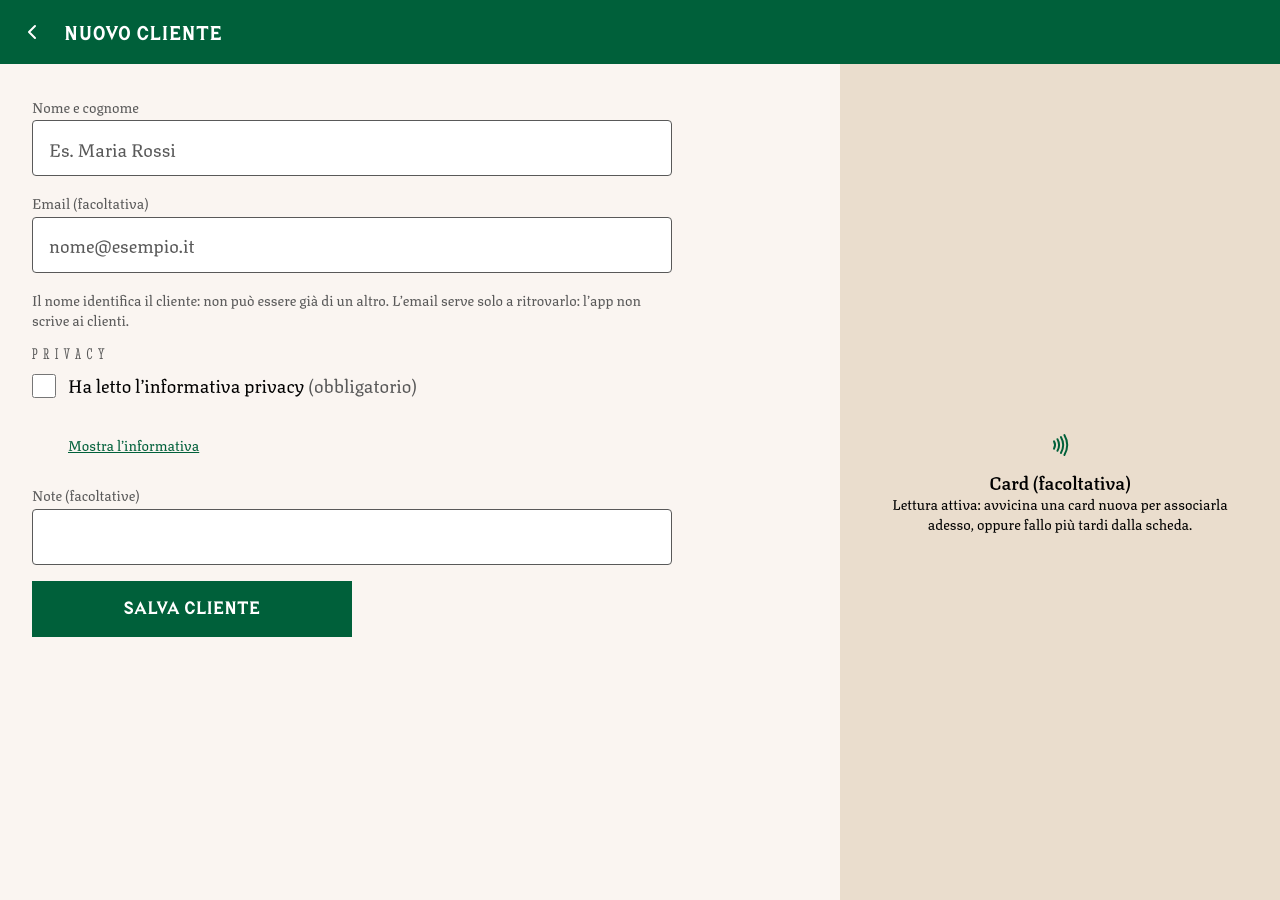
Test: Nuovo cliente: the link written after the save (SPEC-cards, points 2, 3 and 8) › read on the page: «Card associata a Giulia», the write on that card, then the customer page
Later steps or results of the test are not shown.
Expected: the text "Lettura attiva: avvicina una card nuova per associarla adesso, oppure fallo più tardi dalla scheda." is shown, x1=892 y1=492 x2=1228 y2=534
Type "Giulia Bianchi" into the field labelled "Nome e cognome". click: (352,148)
box: x1=32 y1=120 x2=672 y2=176
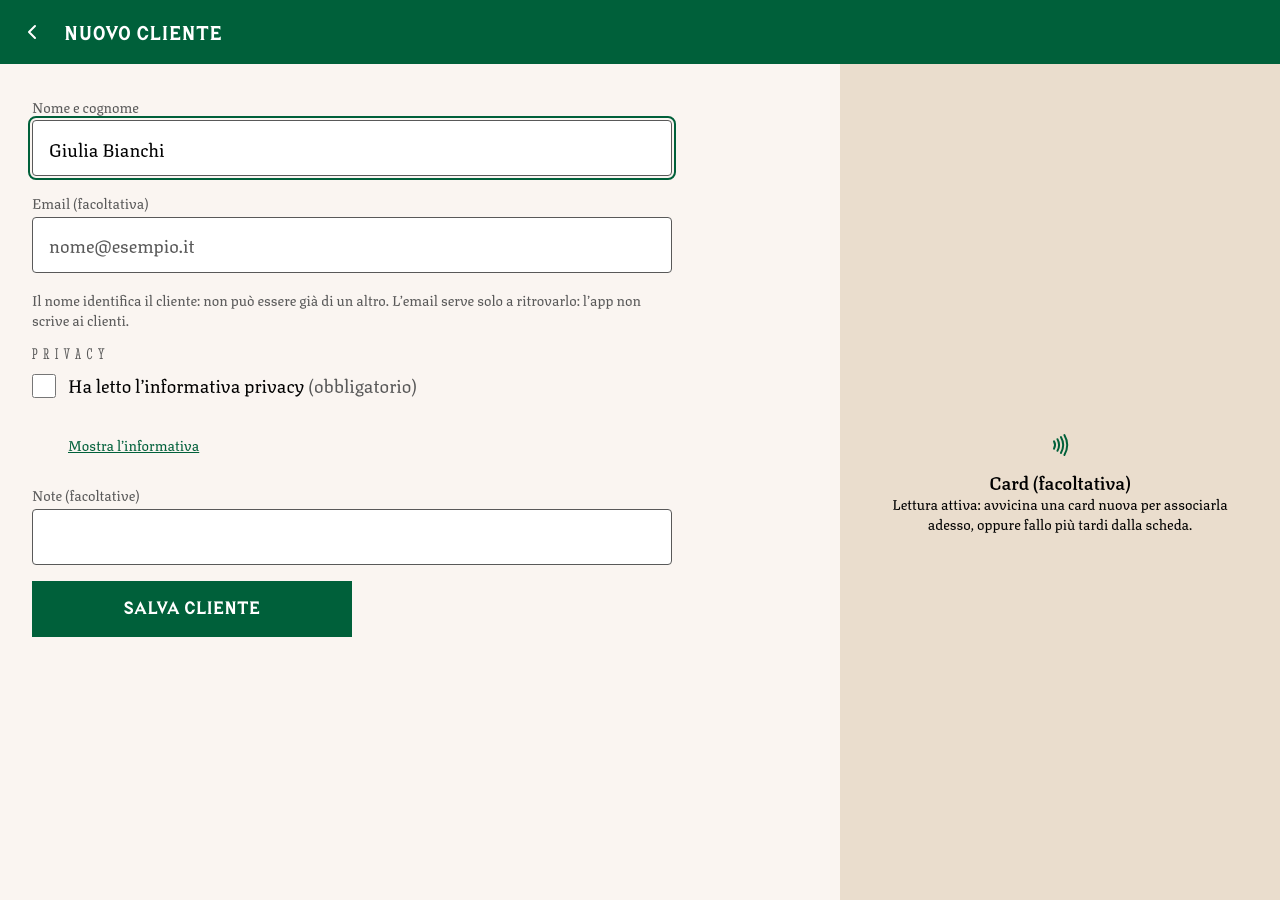
Type "giulia@example.com" into the field labelled "Email (facoltativa)". click: (352,245)
box: x1=32 y1=217 x2=672 y2=273
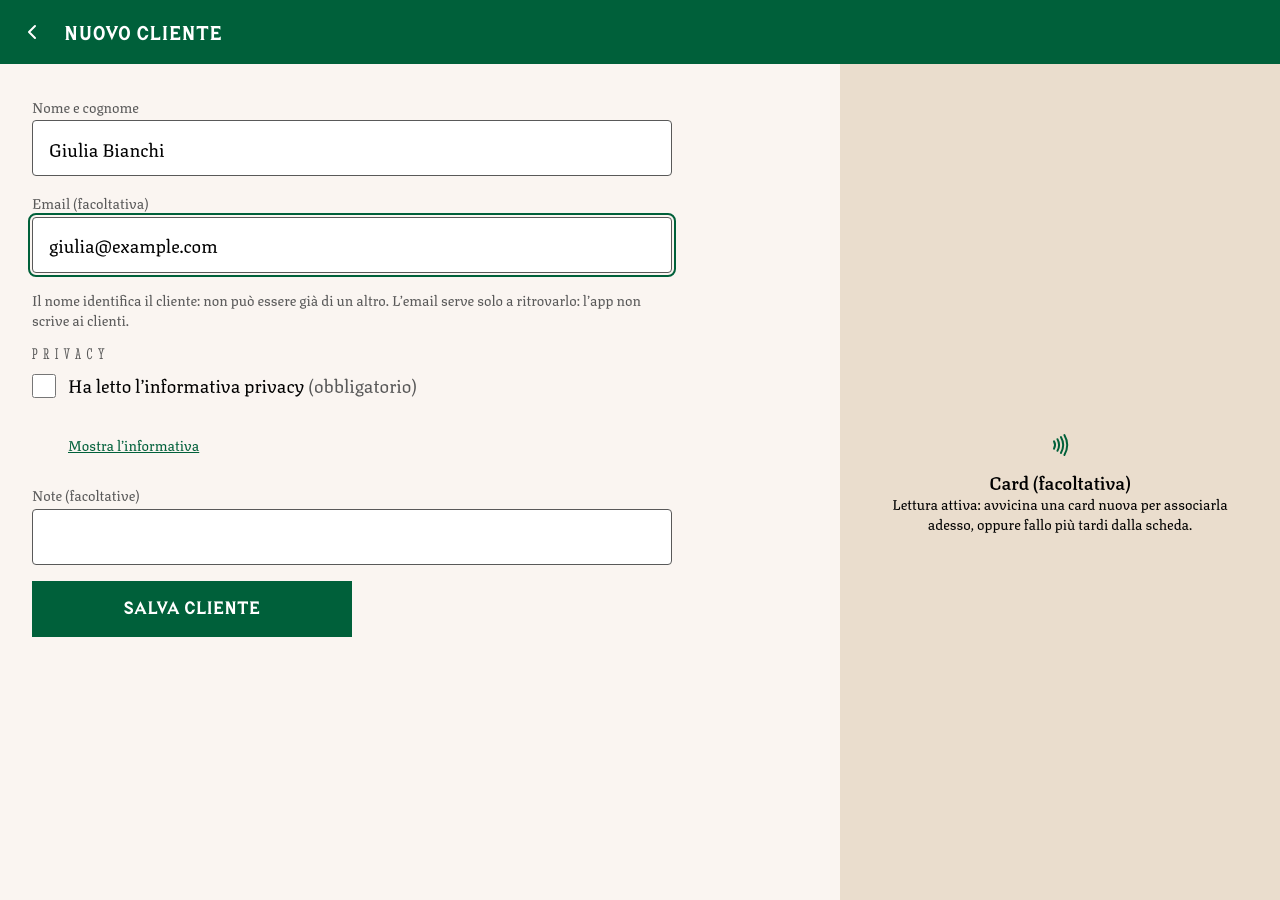
Click the checkbox labelled "Ha letto l’informativa privacy (obbligatorio)". click: (44,386)
box: x1=32 y1=374 x2=56 y2=398
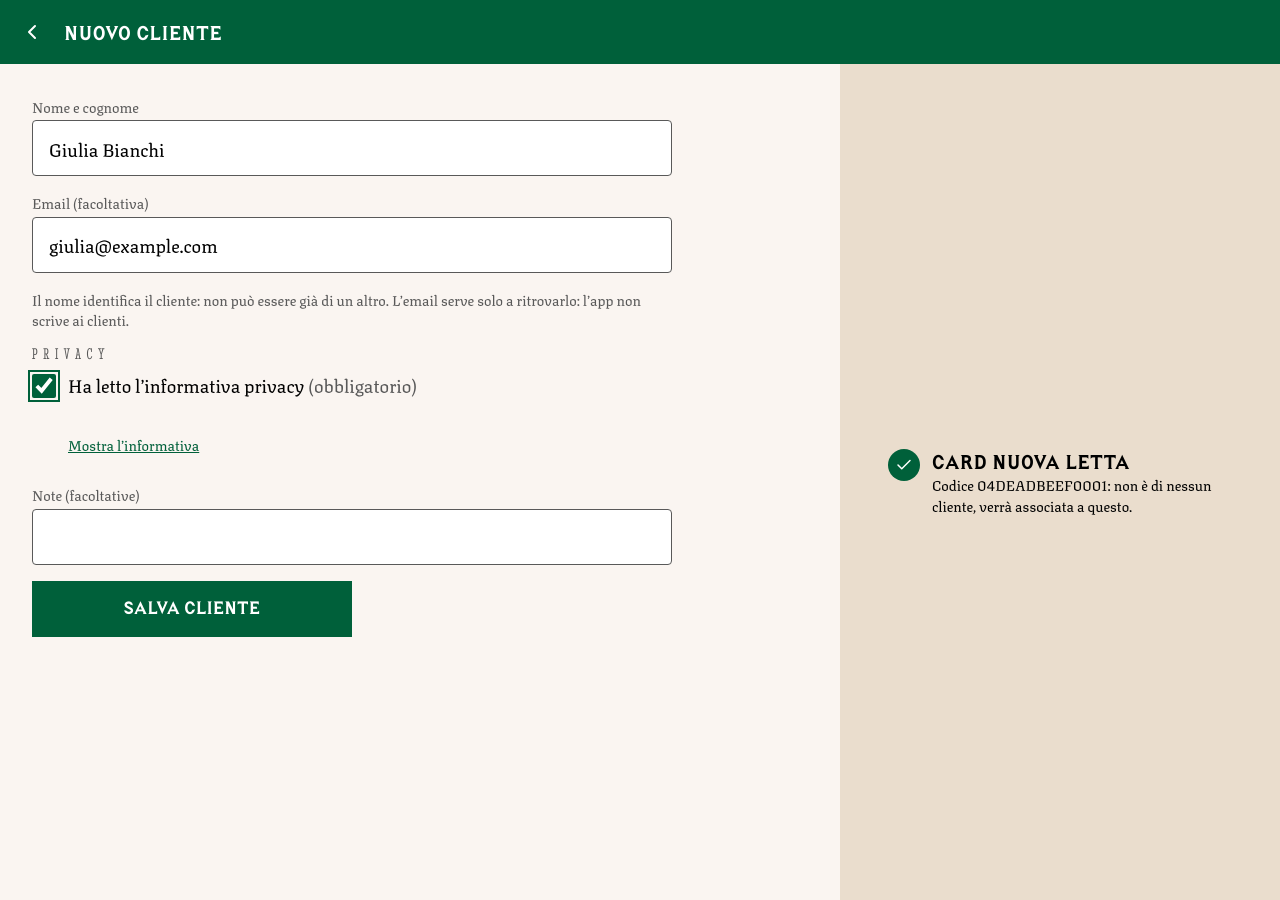
Expected: the element named "Card letta" is shown, x1=872 y1=433 x2=1248 y2=531
Click the button "Salva cliente". click: (192,609)
box: x1=32 y1=581 x2=352 y2=637
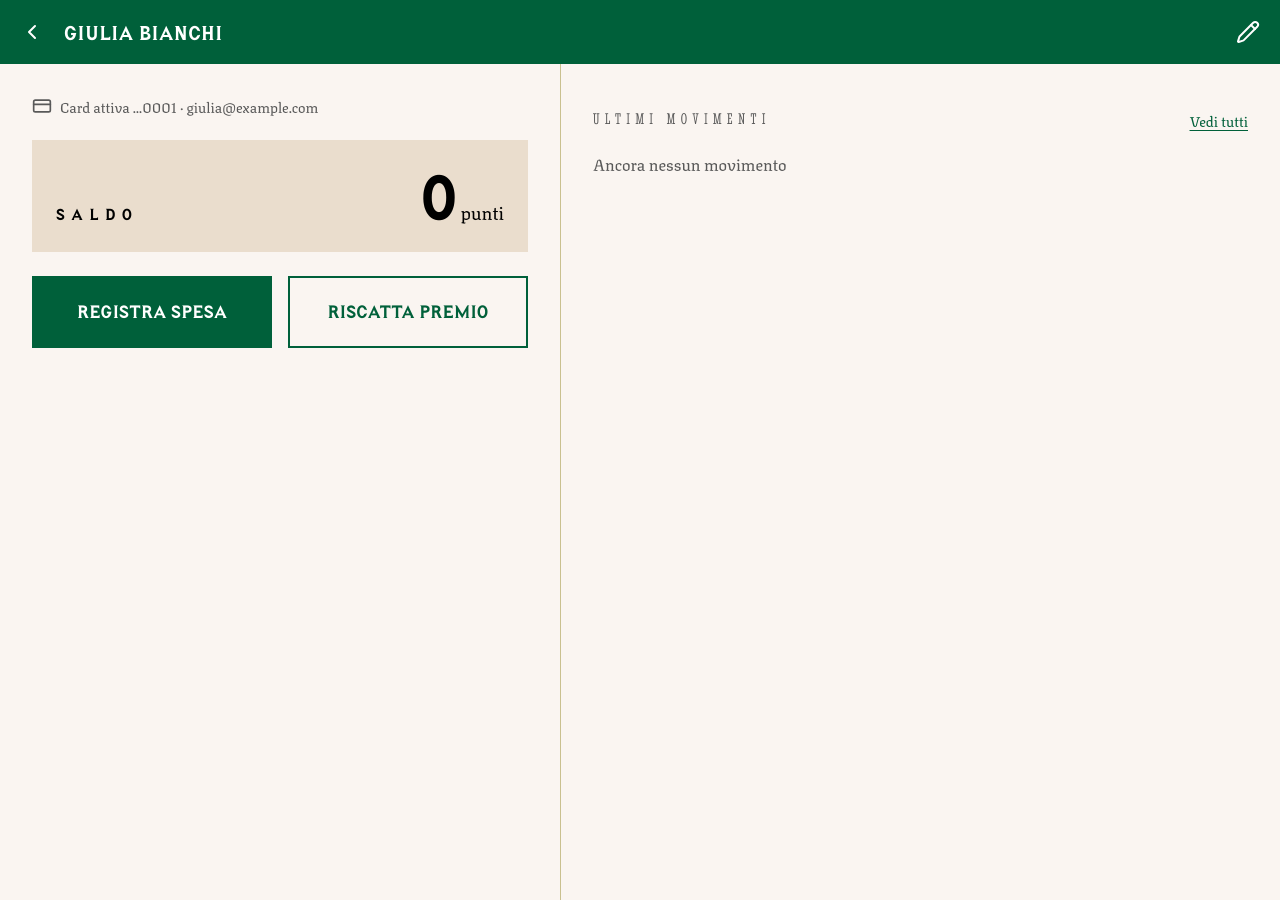
Expected: the label "Nome e cognome" is gone
Expected: the button "Salva cliente" is gone
